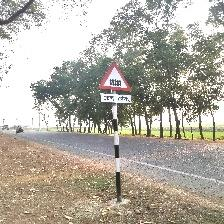Rail-crossing: (98, 62, 133, 105)
